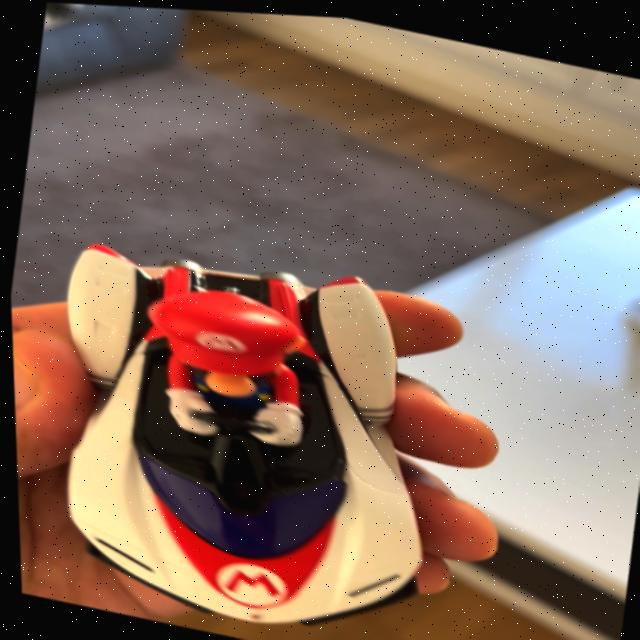mario: (6, 204, 511, 640)
